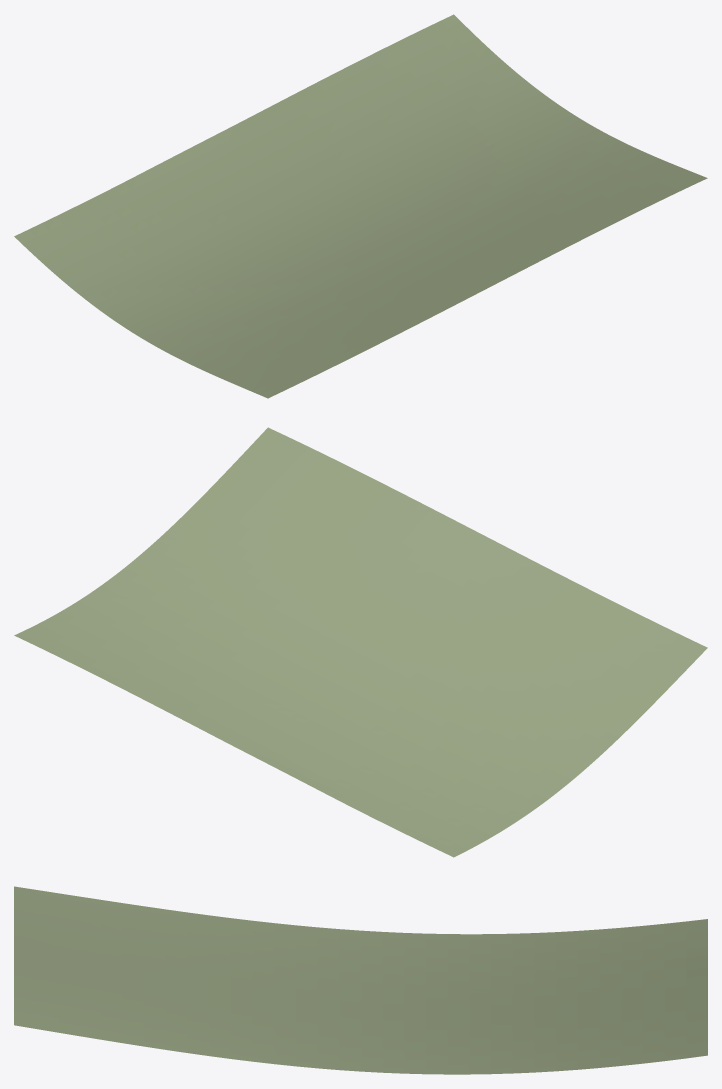
Rendered from desert-23-5.glb.
3 views of the same model, one above another, from view 1: azimuth 30°, elevation 25°; view 2: azimuth 150°, elevation 25°; view 3: azimuth 270°, elevation 25° (orthographic). The views are drawn at different scales.
Parts seen in each view (by area): view 1: desert-23-5; view 2: desert-23-5; view 3: desert-23-5.
Part boxes in pixels (<box>): desert-23-5: <box>14,14,707,398</box>; desert-23-5: <box>14,427,707,857</box>; desert-23-5: <box>14,886,707,1074</box>.
Size of the model in its own units: 512 by 165 by 512.
